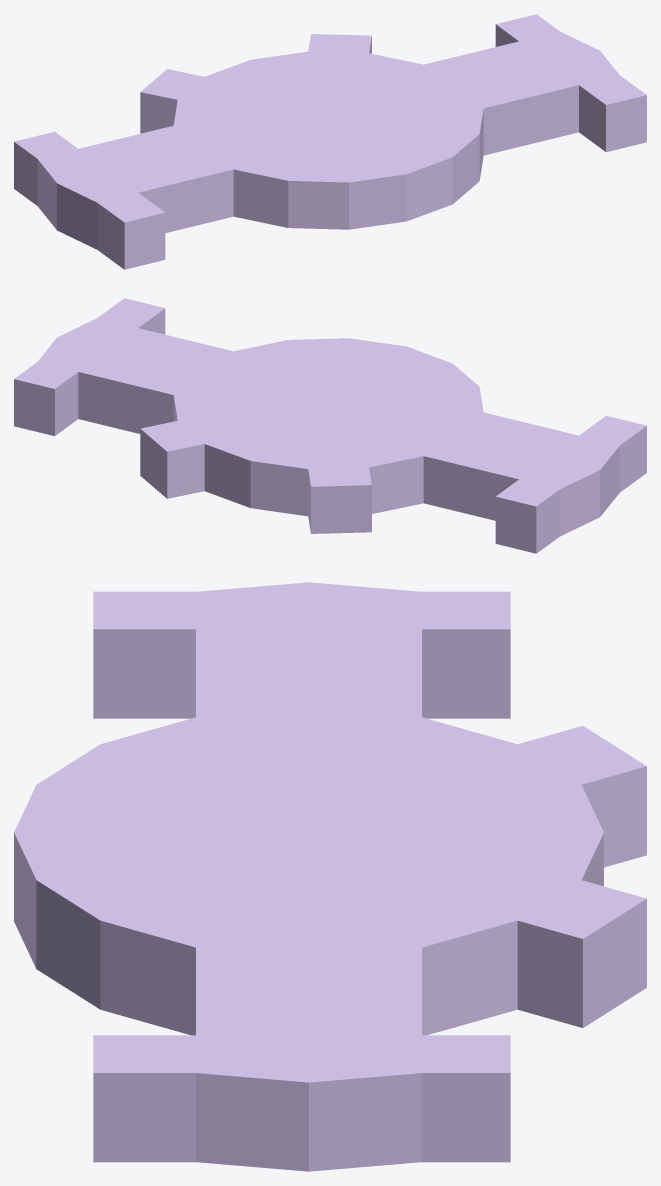
Rendered from WeaponNodeMK1.fbx.
3 views of the same model, one above another, from view 1: azimuth 30°, elevation 25°; view 2: azimuth 150°, elevation 25°; view 3: azimuth 270°, elevation 25° (orthographic). The views are drawn at different scales.
Visible parts, largest first — view 1: Cylinder; view 2: Cylinder; view 3: Cylinder.
Boxes of the visible parts, left/top/right/bottom form: Cylinder: left=14, top=14, right=646, bottom=269; Cylinder: left=14, top=298, right=646, bottom=553; Cylinder: left=14, top=582, right=646, bottom=1171.
Size of the model in its own units: 602 by 50 by 322.
